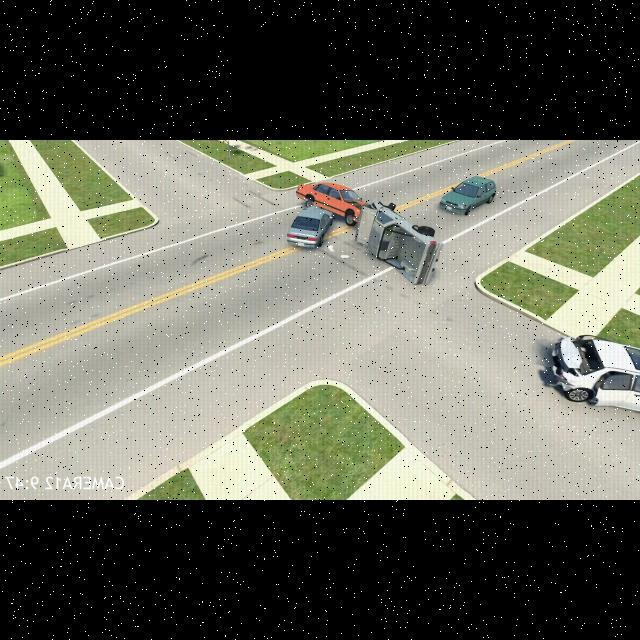severe: (352, 196, 446, 288), (284, 176, 376, 250)
